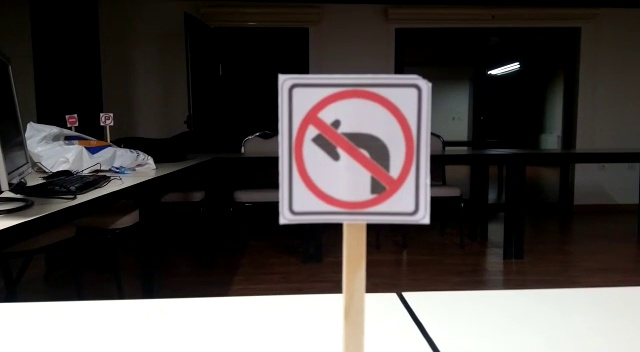sola_donulmez: (294, 81, 419, 214)
